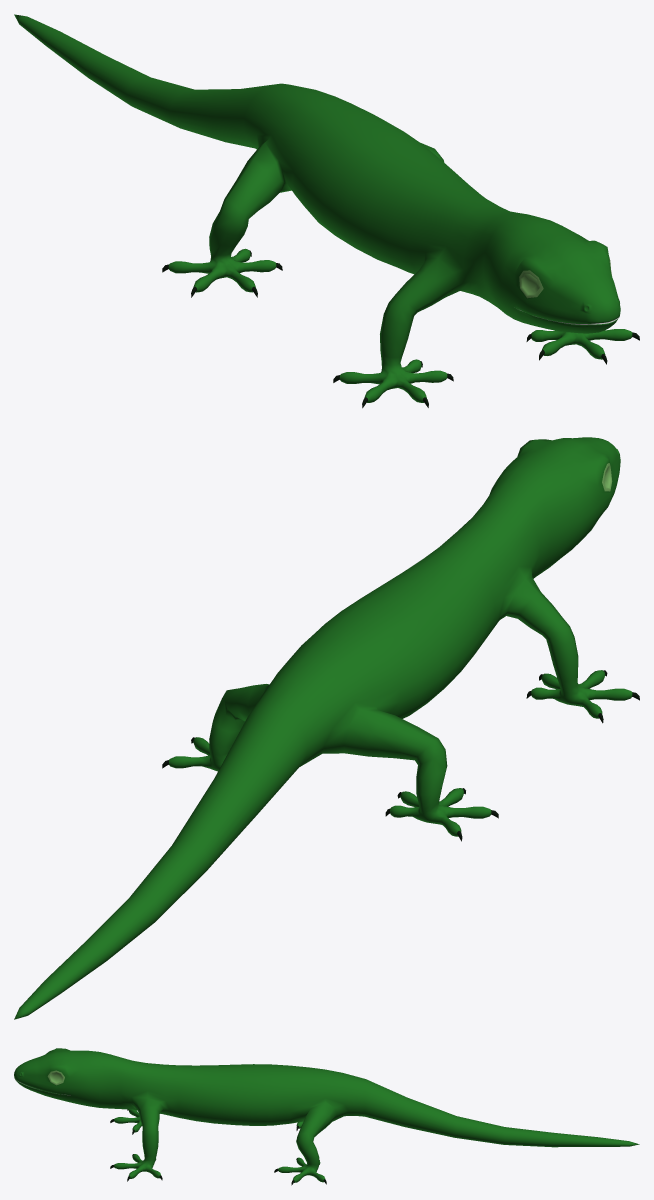
The model's file is lizard_lizard.obj.
3 views of the same model, one above another, from view 1: azimuth 30°, elevation 25°; view 2: azimuth 150°, elevation 25°; view 3: azimuth 270°, elevation 25° (orthographic). The views are drawn at different scales.
Visible parts, largest first — view 1: lizard; view 2: lizard; view 3: lizard.
Part boxes in pixels (x1,y1,x2,y2): lizard: (14, 14, 639, 408); lizard: (14, 437, 639, 1019); lizard: (14, 1048, 639, 1185).
Size of the model in its own units: 0.0606 by 0.0333 by 0.2032.
